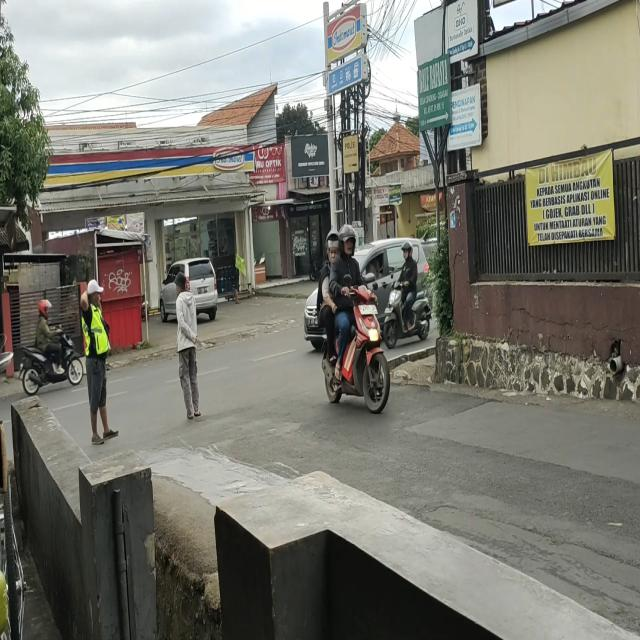helmet: (340, 224, 355, 256), (326, 233, 341, 259), (41, 298, 51, 322), (404, 242, 413, 259)
